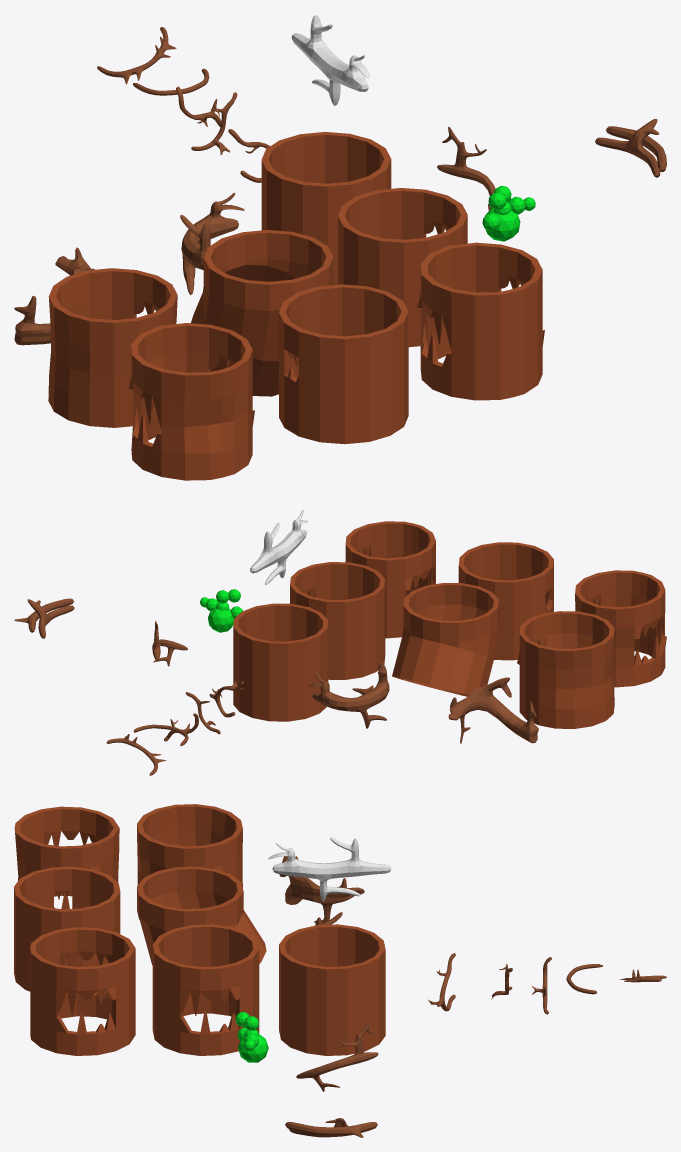
The model's file is NewBranches12.fbx.
3 renders of one model, top to bottom at view 1: azimuth 30°, elevation 25°; view 2: azimuth 150°, elevation 25°; view 3: azimuth 270°, elevation 25°, orthographic. The views are drawn at different scales.
Parts seen in each view (by area): view 1: Cylinder.004, Cylinder.002, Cylinder.008, Cylinder.007, Cylinder.003, Cylinder.001, Cylinder.005, Cube.001, Cube.016, Icosphere.002, Cube.015, Cube.005 (+3 smaller); view 2: Cylinder.007, Cylinder.005, Cylinder.003, Cylinder.001, Cylinder.008, Cylinder.004, Cylinder.002, Cube.015, Cube.016, Cube.001, Icosphere.002, Cube.005 (+3 smaller); view 3: Cylinder.005, Cylinder.002, Cylinder.001, Cylinder.004, Cylinder.007, Cylinder.003, Cylinder.008, Cube.001, Cube.015, Icosphere.002, Cube.017, Cube.004.
Boxes of the visible parts, left/top/right/bottom form: Cylinder.004: left=279, top=284, right=408, bottom=444; Cylinder.002: left=417, top=242, right=544, bottom=400; Cylinder.008: left=128, top=323, right=254, bottom=480; Cylinder.007: left=48, top=268, right=177, bottom=427; Cylinder.003: left=191, top=230, right=333, bottom=396; Cylinder.001: left=338, top=188, right=467, bottom=347; Cylinder.005: left=261, top=132, right=391, bottom=285; Cube.001: left=291, top=14, right=369, bottom=105; Cube.016: left=180, top=192, right=244, bottom=294; Icosphere.002: left=482, top=185, right=535, bottom=241; Cube.015: left=14, top=247, right=94, bottom=345; Cube.005: left=595, top=119, right=660, bottom=177; Cylinder.007: left=517, top=611, right=614, bottom=728; Cylinder.005: left=233, top=603, right=328, bottom=721; Cylinder.003: left=392, top=583, right=498, bottom=696; Cylinder.001: left=289, top=562, right=385, bottom=679; Cylinder.008: left=575, top=570, right=666, bottom=687; Cylinder.004: left=458, top=542, right=553, bottom=660; Cylinder.002: left=345, top=521, right=435, bottom=638; Cube.015: left=448, top=677, right=538, bottom=743; Cube.016: left=308, top=662, right=389, bottom=728; Cube.001: left=250, top=509, right=307, bottom=585; Icosphere.002: left=200, top=589, right=242, bottom=632; Cube.005: left=27, top=599, right=74, bottom=638; Cylinder.005: left=279, top=924, right=385, bottom=1055; Cylinder.002: left=30, top=927, right=135, bottom=1055; Cylinder.001: left=152, top=924, right=259, bottom=1055; Cylinder.004: left=14, top=866, right=120, bottom=993; Cylinder.007: left=137, top=804, right=242, bottom=919; Cylinder.003: left=137, top=866, right=266, bottom=965; Cylinder.008: left=14, top=806, right=119, bottom=909; Cube.001: left=268, top=837, right=391, bottom=901; Cube.015: left=279, top=856, right=364, bottom=923; Icosphere.002: left=235, top=1012, right=268, bottom=1062; Cube.017: left=296, top=1021, right=378, bottom=1091; Cube.004: left=285, top=1122, right=377, bottom=1137.
Size of the model in its own units: 69381 by 25259 by 68292.
